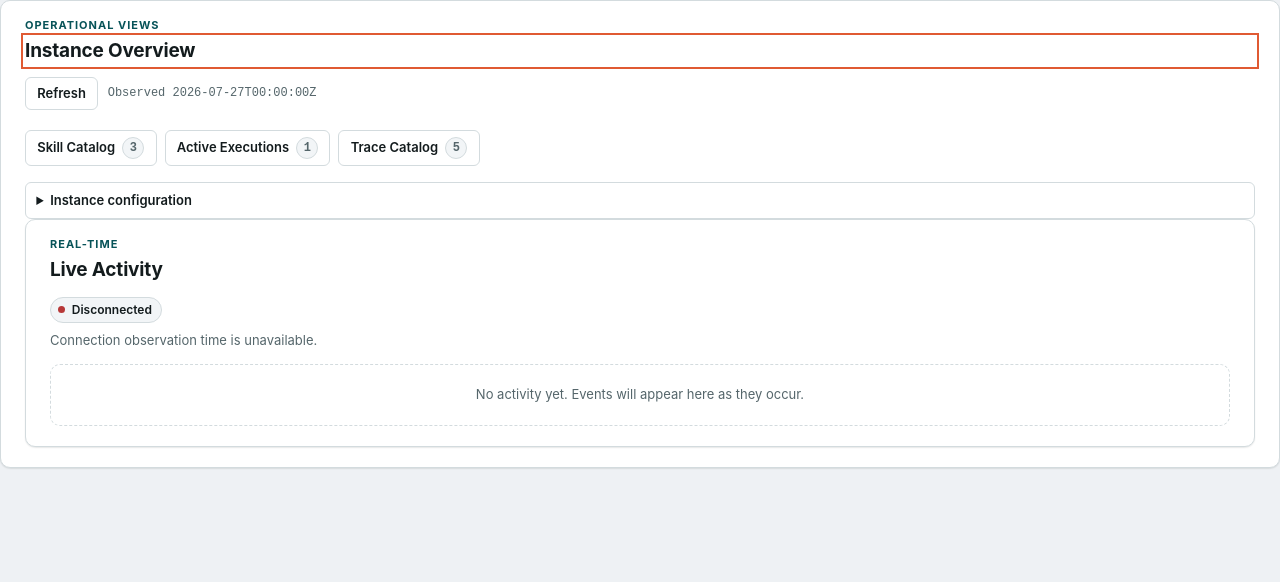
it: overview collapses static configuration facts behind a disclosure
Expected: the text "0.1.0-SNAPSHOT" is not shown
Expected: the text "PERSISTENT" is not shown
Click the heading "Instance configuration" at (121, 200), box [50, 192, 192, 208]
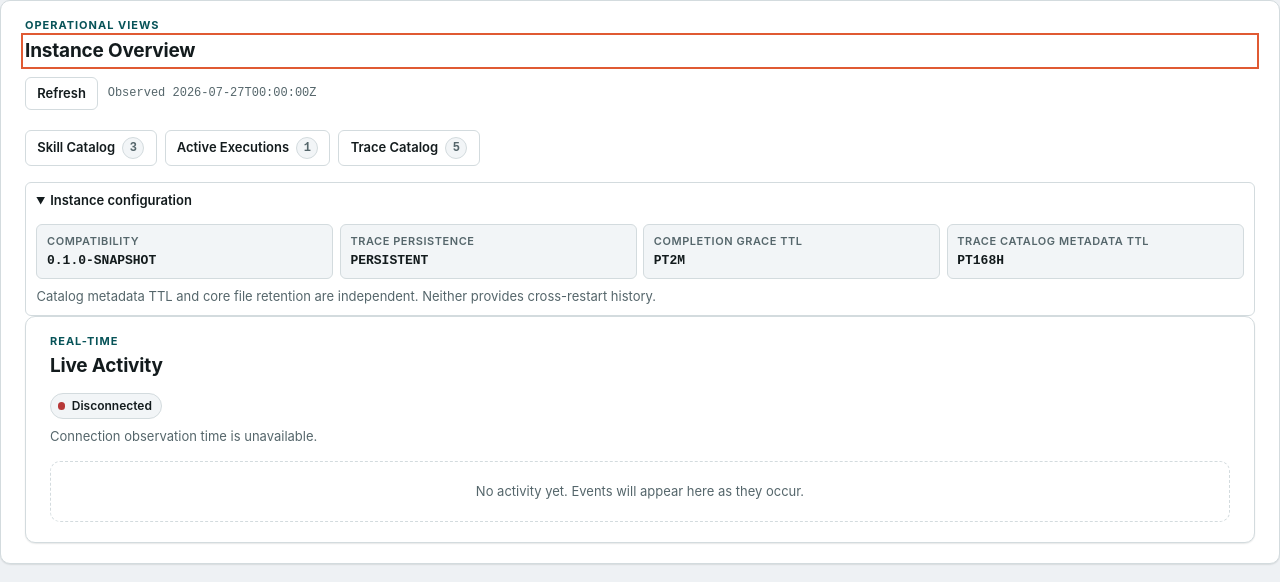
Expected: the text "0.1.0-SNAPSHOT" is shown, [47, 254, 156, 268]
Expected: the text "PERSISTENT" is shown, [350, 254, 428, 268]
Expected: the text "PT2M" is shown, [654, 254, 685, 268]
